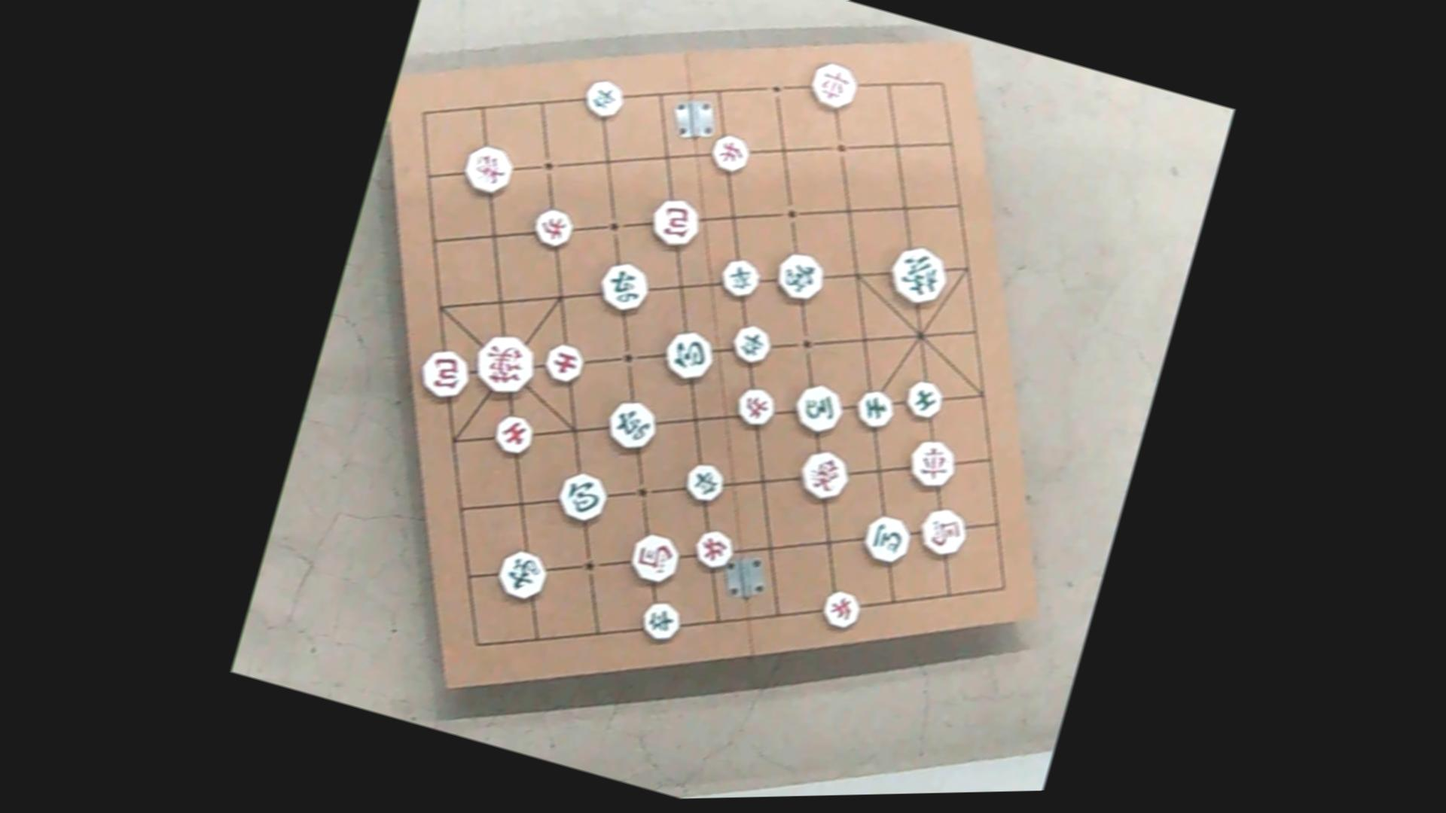cha_green: (600, 395, 661, 456), (592, 255, 653, 315)
cha_red: (803, 57, 861, 115), (903, 434, 959, 489)
jol_green: (636, 597, 685, 645), (677, 457, 725, 505), (716, 254, 763, 303), (579, 76, 627, 122), (728, 318, 773, 366)
jol_red: (689, 525, 740, 577), (706, 130, 755, 178), (527, 203, 575, 251), (731, 382, 779, 429), (816, 586, 862, 632)
ma_green: (789, 378, 849, 437), (856, 510, 914, 569)
ma_red: (623, 527, 682, 587), (913, 501, 972, 560)
po_green: (656, 324, 718, 386), (553, 469, 611, 528)
po_red: (415, 346, 476, 406), (646, 191, 706, 251)
sa_green: (851, 384, 898, 432), (899, 376, 946, 422)
sa_red: (489, 410, 538, 460), (540, 339, 587, 388)
sang_green: (768, 249, 828, 309), (493, 547, 552, 605)
sang_red: (794, 444, 853, 503), (458, 140, 516, 199)
wang_green: (882, 240, 953, 309)
wang_red: (468, 327, 541, 398)
